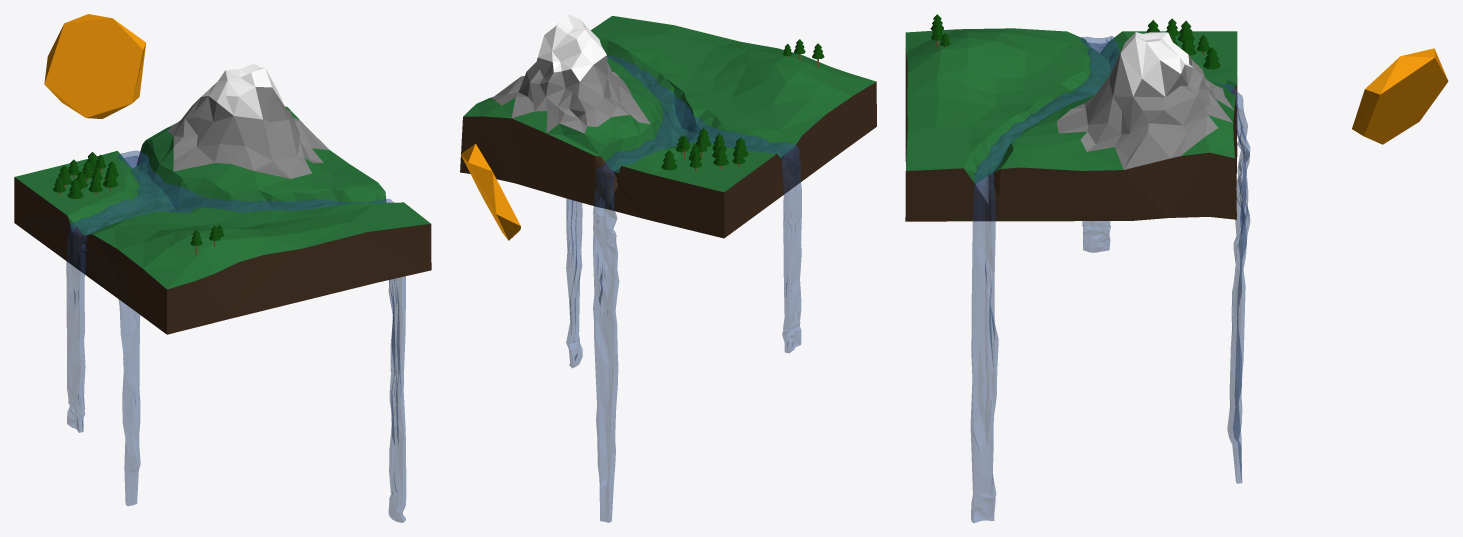
File: landscape.glb
3 renders of one model, left to right at view 1: azimuth 30°, elevation 25°; view 2: azimuth 150°, elevation 25°; view 3: azimuth 270°, elevation 25°, orthographic. The views are drawn at different scales.
Visible parts, largest first — view 1: Plane, Plane.001, Sund; view 2: Plane, Plane.001, Sund; view 3: Plane, Plane.001, Sund.
Part boxes in pixels (x1,y1,x2,y2): Plane: (14,63,431,334); Plane.001: (66,150,406,522); Sund: (44,14,145,118); Plane: (460,14,876,238); Plane.001: (566,55,801,522); Sund: (461,143,520,240); Plane: (905,28,1237,221); Plane.001: (970,36,1250,522); Sund: (1352,48,1448,144).
Bounding box in the file's own units: 6.31 × 9.78 × 9.82.
